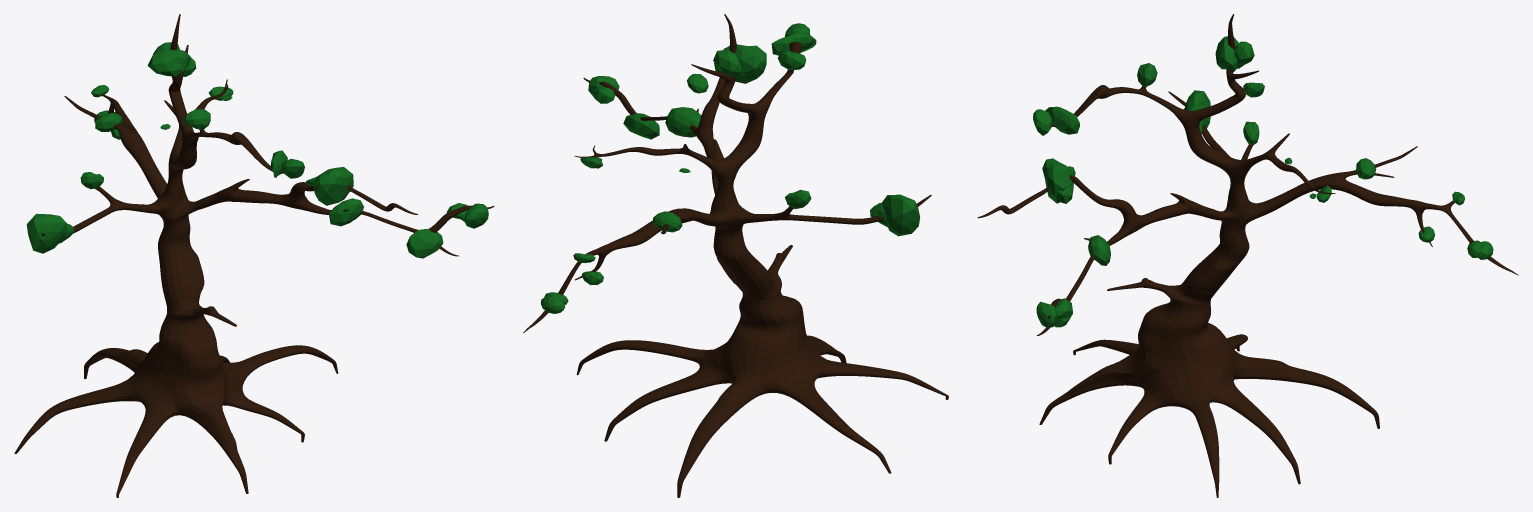
The model's file is Tree_version1.fbx.
3 views of the same model, side by side, from view 1: azimuth 30°, elevation 25°; view 2: azimuth 150°, elevation 25°; view 3: azimuth 270°, elevation 25° (orthographic). The views are drawn at different scales.
Visible parts, largest first — view 1: hojas medio; view 2: hojas medio; view 3: hojas medio.
Part boxes in pixels (left/top/right/bottom): hojas medio: left=14, top=14, right=494, bottom=497; hojas medio: left=523, top=14, right=948, bottom=497; hojas medio: left=977, top=14, right=1518, bottom=497.
Bounding box in the file's own units: 340 × 337 × 387.
